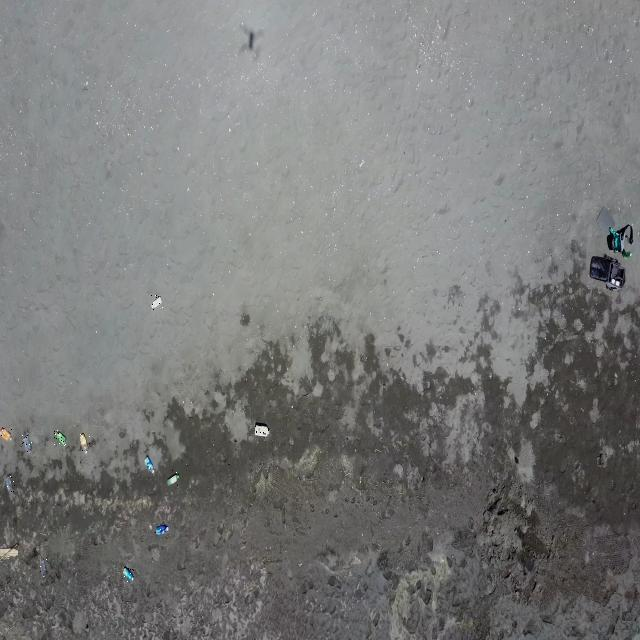plastic-bottle: (144, 454, 155, 476), (80, 431, 90, 455), (155, 521, 170, 537), (254, 422, 270, 437), (167, 470, 180, 488), (54, 430, 67, 447), (150, 294, 163, 310), (124, 565, 136, 582), (0, 426, 13, 441), (623, 250, 632, 260)
takeaway-cup: (6, 474, 16, 494), (22, 435, 32, 454), (40, 559, 48, 578)
